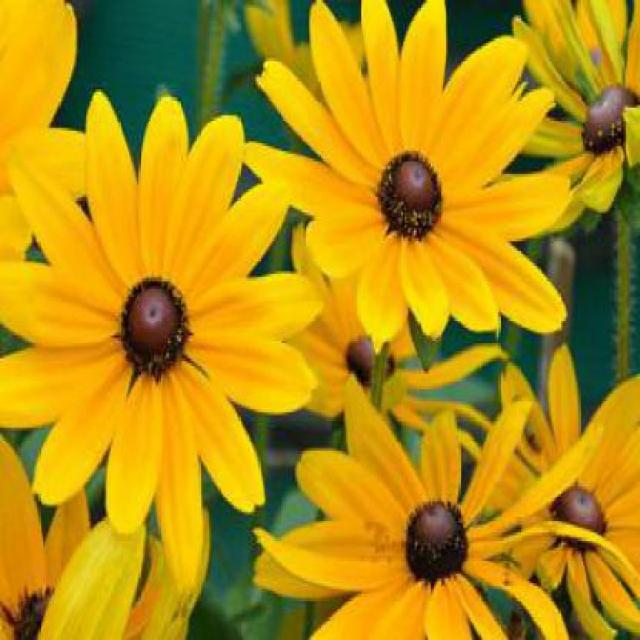Flower: (2, 90, 323, 536), (235, 2, 576, 353), (253, 373, 639, 638), (419, 341, 639, 638), (488, 2, 639, 244), (121, 277, 190, 378), (379, 151, 443, 243), (407, 499, 468, 581), (546, 481, 608, 553), (583, 85, 639, 159)
